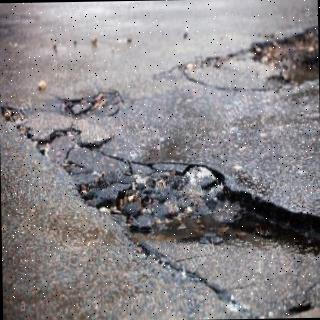pothole: (96, 162, 320, 256)
